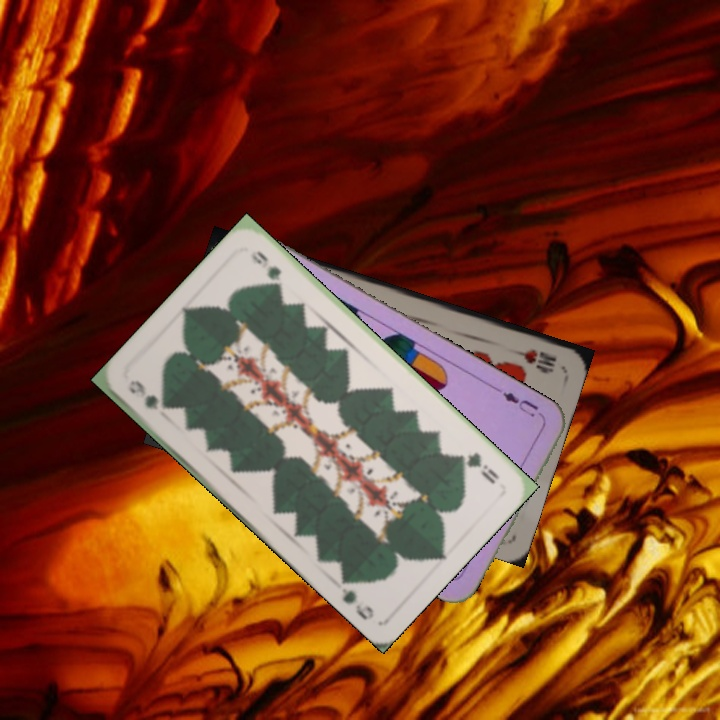EU: (494, 386, 542, 420)
G9: (123, 376, 172, 413), (456, 448, 502, 487)
H10: (504, 344, 559, 373)
